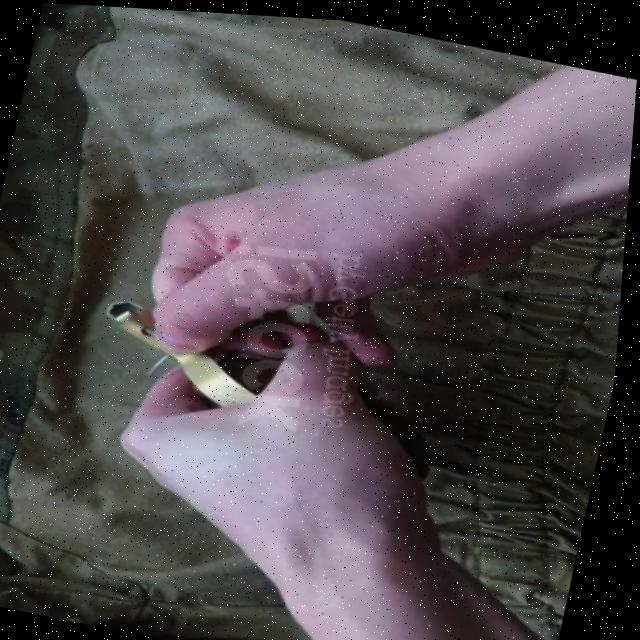grenade: (67, 267, 462, 515)
